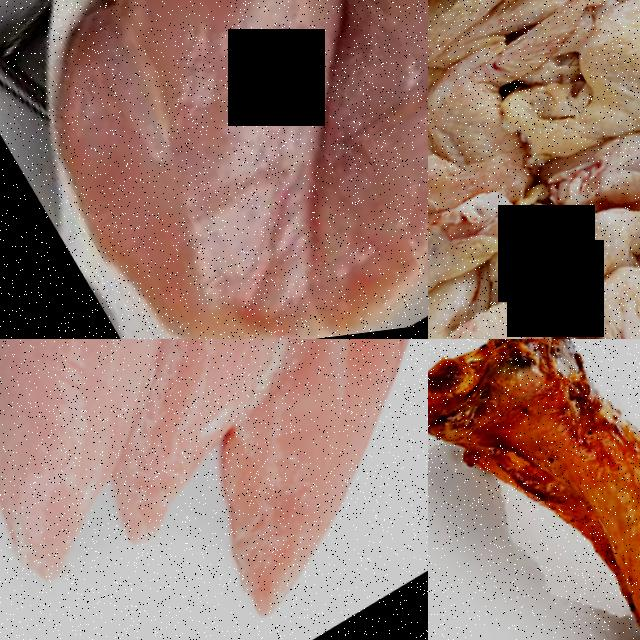chicken breast: (0, 0, 428, 339), (125, 339, 428, 640), (0, 339, 249, 556), (110, 339, 340, 399)
chicken thigh: (428, 339, 640, 640)
chicken wing: (514, 0, 640, 174), (573, 77, 640, 293)
